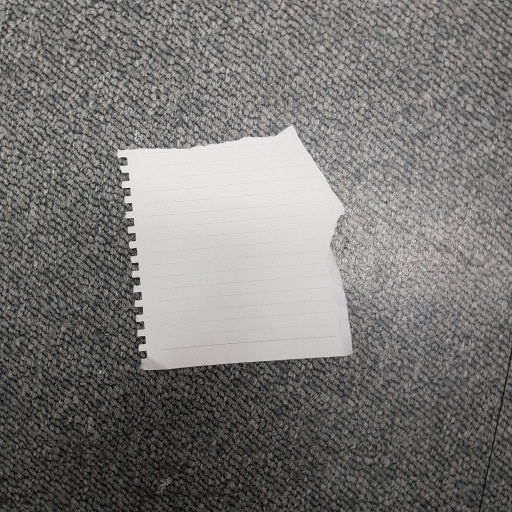Paper_2: (110, 136, 371, 365)
